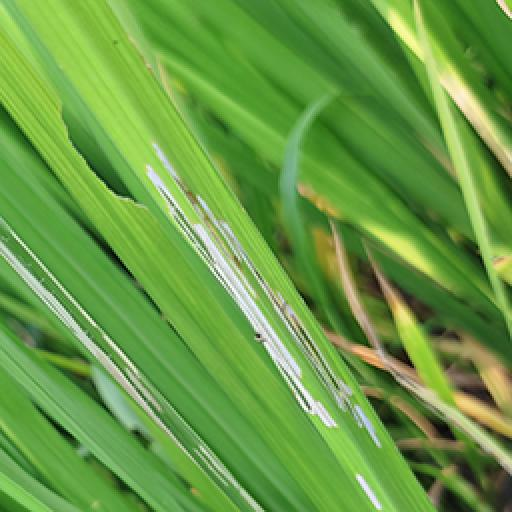Bacterial Leaf Blight: (0, 222, 272, 512), (143, 132, 399, 436), (350, 456, 408, 512)
